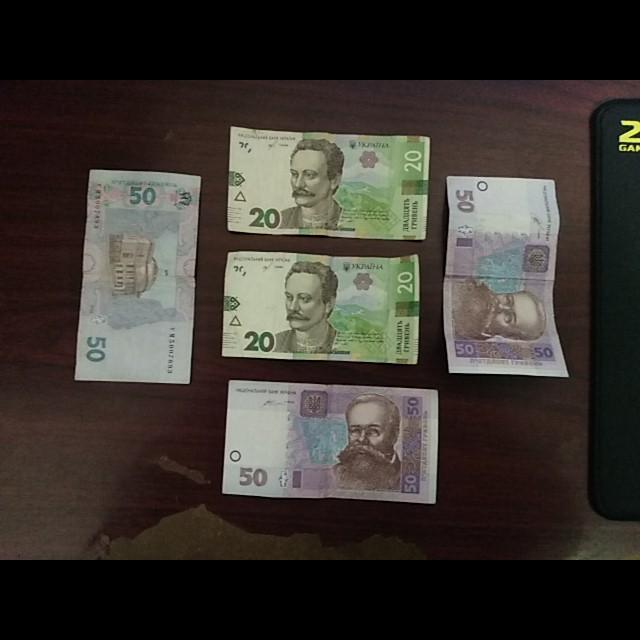20uah: (227, 125, 430, 240), (222, 251, 420, 365)
50uah: (222, 379, 440, 506), (74, 171, 202, 384), (442, 176, 569, 375)
